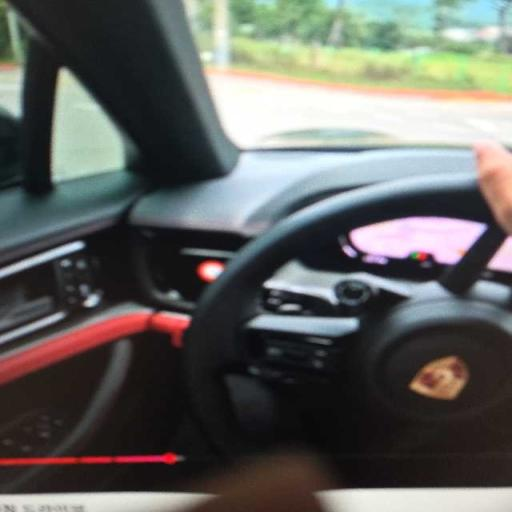car: (0, 0, 511, 511)
lane: (208, 74, 511, 147)
person: (193, 456, 332, 511), (475, 140, 511, 233)
